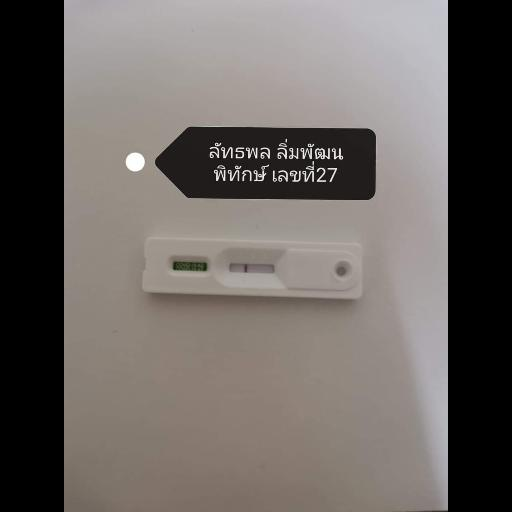Neg: (141, 235, 364, 301)
